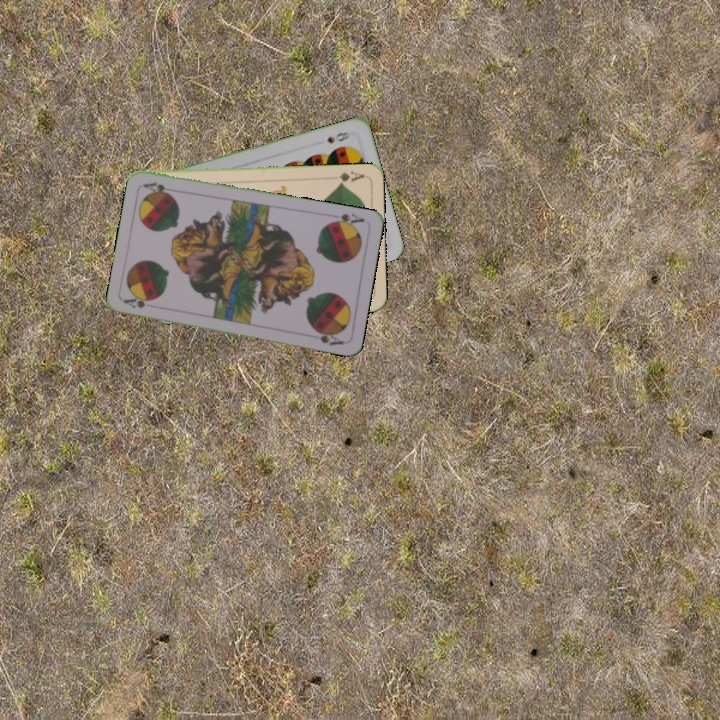GA: (335, 167, 367, 187)
S8: (323, 127, 355, 146)
SA: (326, 209, 367, 230), (121, 294, 152, 311)
